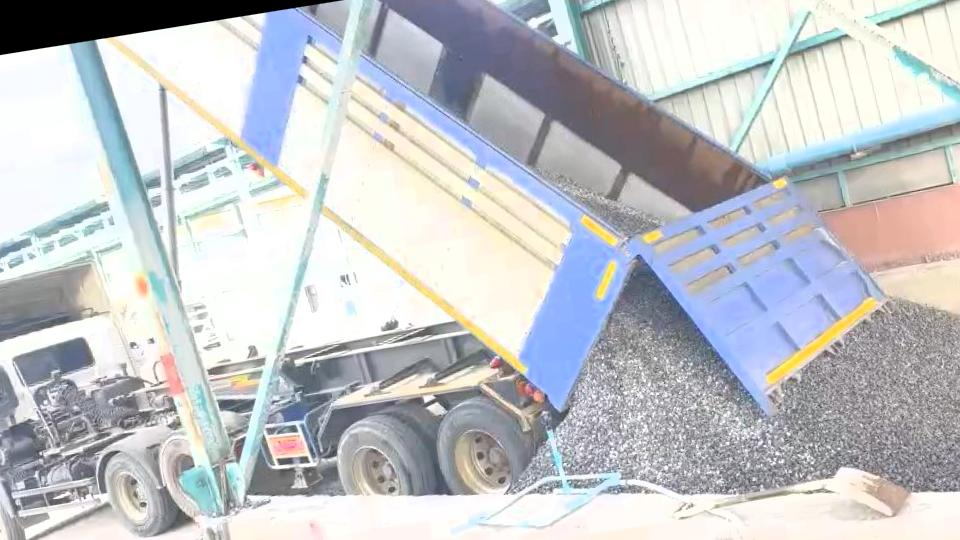gravel: (556, 267, 960, 492), (537, 169, 663, 237)
